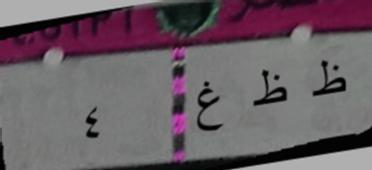4: (78, 93, 109, 150)
Thaa: (248, 61, 289, 115), (306, 56, 348, 107)
ghayn: (194, 72, 231, 138)
